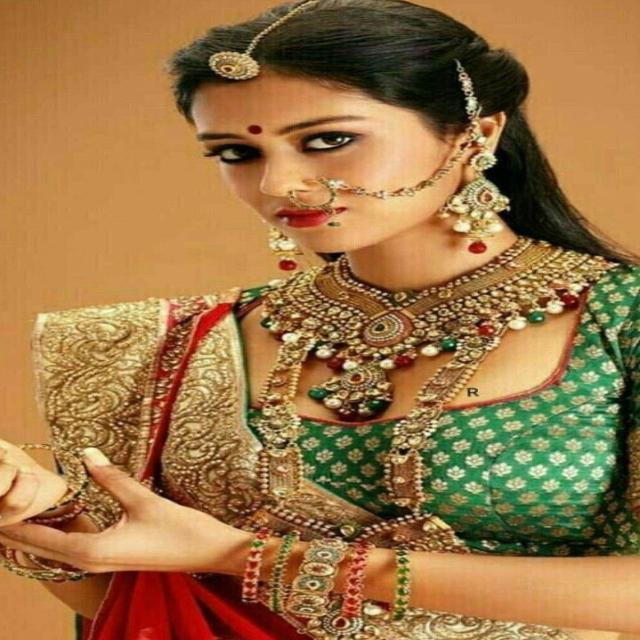Earring: (438, 126, 524, 242), (264, 225, 312, 279)
